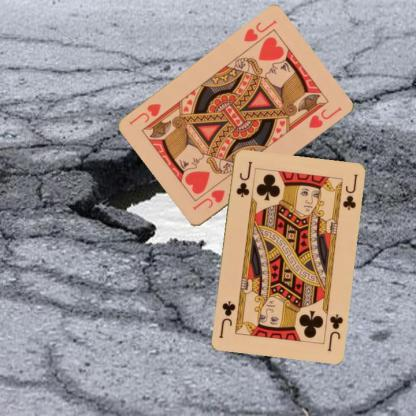Jc: (233, 158, 254, 198), (324, 311, 344, 352)
Jh: (240, 18, 278, 44), (190, 187, 226, 212)
